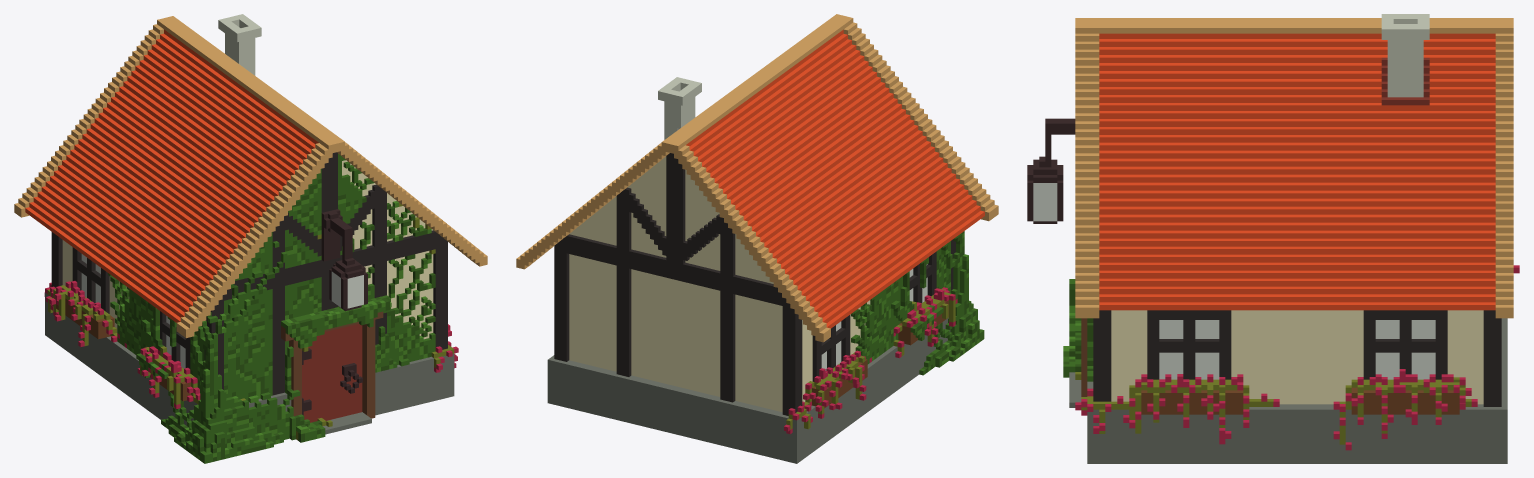
The model's file is house.obj.
3 views of the same model, side by side, from view 1: azimuth 30°, elevation 25°; view 2: azimuth 150°, elevation 25°; view 3: azimuth 270°, elevation 25° (orthographic). The views are drawn at different scales.
Visible parts, largest first — view 1: house; view 2: house; view 3: house.
Part boxes in pixels (x1=…): house: x1=14, y1=14, x2=487, y2=463; house: x1=516, y1=14, x2=998, y2=463; house: x1=1027, y1=14, x2=1519, y2=463.
Bounding box in the file's own units: 74 × 71 × 82.
Materials: 1 (1 with a texture image).
